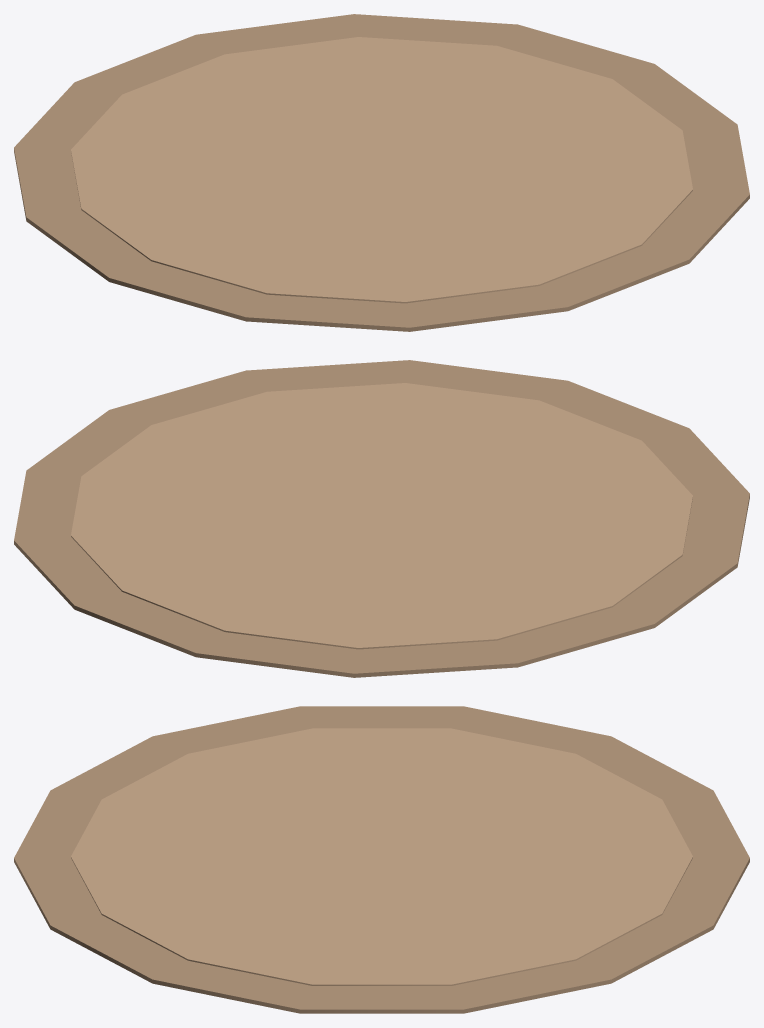
The model's file is tapete-redondo.glb.
3 renders of one model, top to bottom at view 1: azimuth 30°, elevation 25°; view 2: azimuth 150°, elevation 25°; view 3: azimuth 270°, elevation 25°, orthographic.
Parts seen in each view (by area): view 1: tapete-redondo_malha; view 2: tapete-redondo_malha; view 3: tapete-redondo_malha.
Boxes of the visible parts, x1=… form: tapete-redondo_malha: x1=14, y1=14, x2=749, y2=331; tapete-redondo_malha: x1=14, y1=360, x2=749, y2=677; tapete-redondo_malha: x1=14, y1=706, x2=749, y2=1013.
Size of the model in its own units: 1.89 by 0.016 by 1.94.
